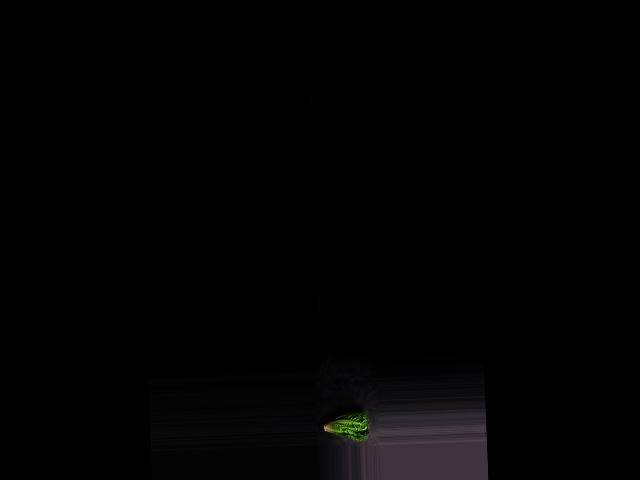lettuce: (319, 409, 369, 443)
